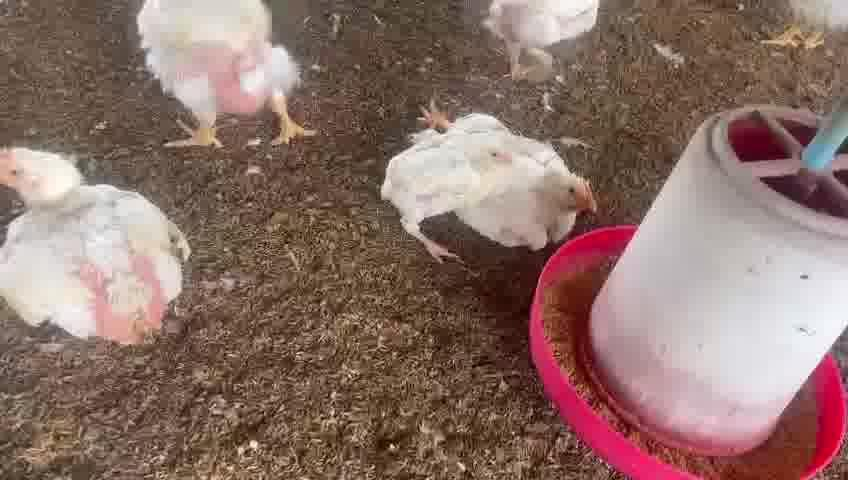AbNormal: (388, 99, 592, 249), (372, 131, 518, 241)
Normal: (0, 138, 206, 351), (133, 1, 316, 169), (485, 0, 620, 89)
